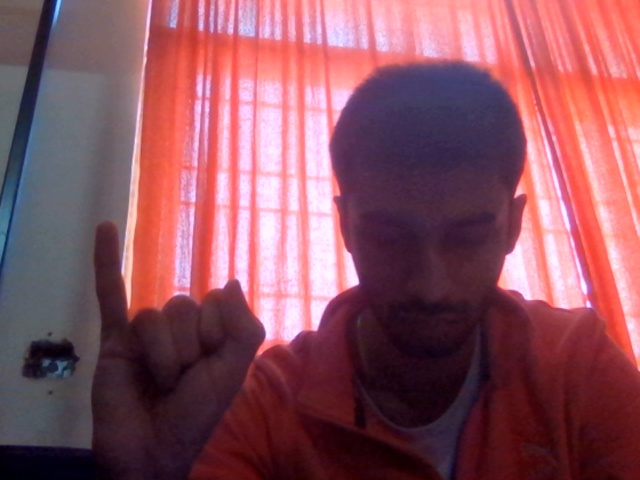I: (77, 204, 288, 480)
